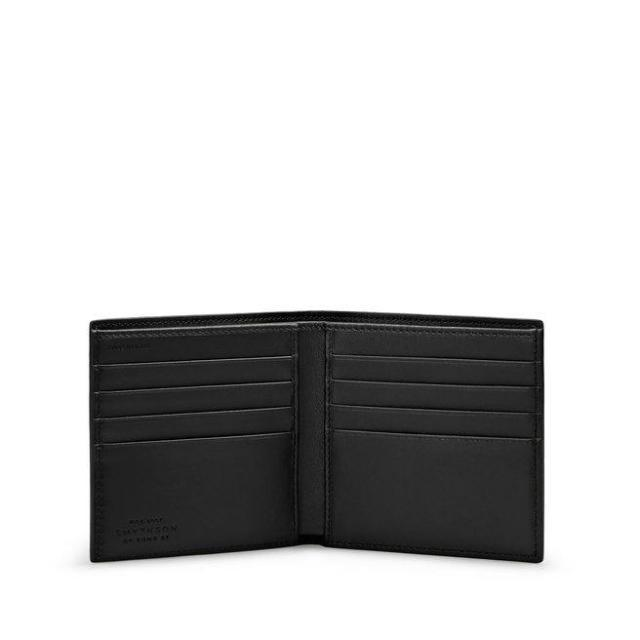Wallet: (88, 311, 542, 563)
